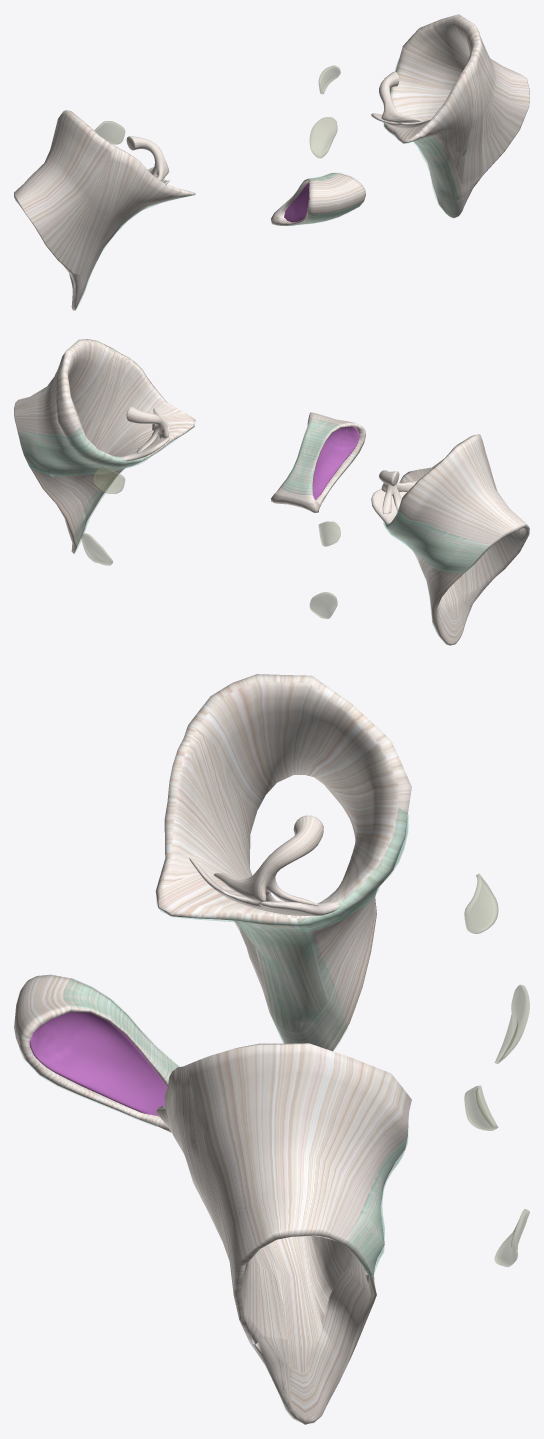
File: hip_attach_s124_female_joints.glb
3 renders of one model, top to bottom at view 1: azimuth 30°, elevation 25°; view 2: azimuth 150°, elevation 25°; view 3: azimuth 270°, elevation 25°, orthographic. The views are drawn at different scales.
Parts seen in each view (by area): view 1: Hip joint capsule.l, Hip joint capsule.r, Sup, Inf, Ant, Post, Pubic ligaments, Pubofemoral ligament.l, Sciatic bursa of gluteus maximus (Ischiogluteal bursa).l, Ligament of head of femur.l, Ligament of head of femur.r, Interpubic disc, Sciatic bursa of obturator internus.r, Sciatic bursa of obturator internus.l; view 2: Hip joint capsule.l, Hip joint capsule.r, Sup, Inf, Ant, Post, Pubic ligaments, Ishciofemoral ligament.l, Ishciofemoral ligament.r, Interpubic disc, Posterior pubic ligament, Ligament of head of femur.r, Ligament of head of femur.l, Sciatic bursa of obturator internus.l, Sciatic bursa of gluteus maximus (Ischiogluteal bursa).r, Sciatic bursa of gluteus maximus (Ischiogluteal bursa).l (+3 smaller); view 3: Hip joint capsule.l, Hip joint capsule.r, Interpubic disc, Sup, Inf, Ant, Post, Pubic ligaments, Pubofemoral ligament.r, Ligament of head of femur.r, Ishciofemoral ligament.r, Ishciofemoral ligament.l, Posterior pubic ligament, Transverse acetabular ligament.r, Sciatic bursa of obturator internus.r, Sciatic bursa of gluteus maximus (Ischiogluteal bursa).r (+1 smaller).
Part boxes in pixels (box(x1,y1,x2,y2)): Hip joint capsule.l: box(384, 14, 529, 218); Hip joint capsule.r: box(14, 110, 195, 310); Sup, Inf, Ant, Post, Pubic ligaments: box(271, 173, 365, 225); Pubofemoral ligament.l: box(385, 128, 459, 217); Sciatic bursa of gluteus maximus (Ischiogluteal bursa).l: box(309, 117, 337, 158); Ligament of head of femur.l: box(379, 71, 420, 123); Ligament of head of femur.r: box(126, 136, 168, 180); Interpubic disc: box(284, 182, 309, 222); Sciatic bursa of obturator internus.r: box(94, 121, 125, 144); Sciatic bursa of obturator internus.l: box(318, 65, 340, 94); Hip joint capsule.l: box(14, 339, 195, 553); Hip joint capsule.r: box(385, 434, 529, 645); Sup, Inf, Ant, Post, Pubic ligaments: box(271, 412, 365, 512); Ishciofemoral ligament.l: box(19, 428, 147, 475); Ishciofemoral ligament.r: box(383, 506, 488, 573); Interpubic disc: box(313, 426, 359, 499); Posterior pubic ligament: box(280, 418, 339, 494); Ligament of head of femur.r: box(379, 470, 415, 513); Ligament of head of femur.l: box(126, 406, 168, 453); Sciatic bursa of obturator internus.l: box(93, 465, 125, 493); Sciatic bursa of gluteus maximus (Ischiogluteal bursa).r: box(309, 592, 337, 618); Sciatic bursa of gluteus maximus (Ischiogluteal bursa).l: box(81, 533, 113, 565); Hip joint capsule.l: box(156, 1043, 411, 1424); Hip joint capsule.r: box(155, 674, 411, 1051); Interpubic disc: box(29, 1011, 167, 1116); Sup, Inf, Ant, Post, Pubic ligaments: box(14, 974, 178, 1132); Pubofemoral ligament.r: box(156, 900, 347, 1050); Ligament of head of femur.r: box(214, 815, 323, 906); Ishciofemoral ligament.r: box(297, 808, 408, 931); Ishciofemoral ligament.l: box(353, 1126, 408, 1277); Posterior pubic ligament: box(64, 978, 179, 1079); Transverse acetabular ligament.r: box(189, 856, 340, 915); Sciatic bursa of obturator internus.r: box(464, 873, 498, 933); Sciatic bursa of gluteus maximus (Ischiogluteal bursa).r: box(494, 984, 529, 1063).
Bounding box in the file's own units: 0.2574 × 0.0974 × 0.1177.
Materials: 5 (2 with a texture image).
